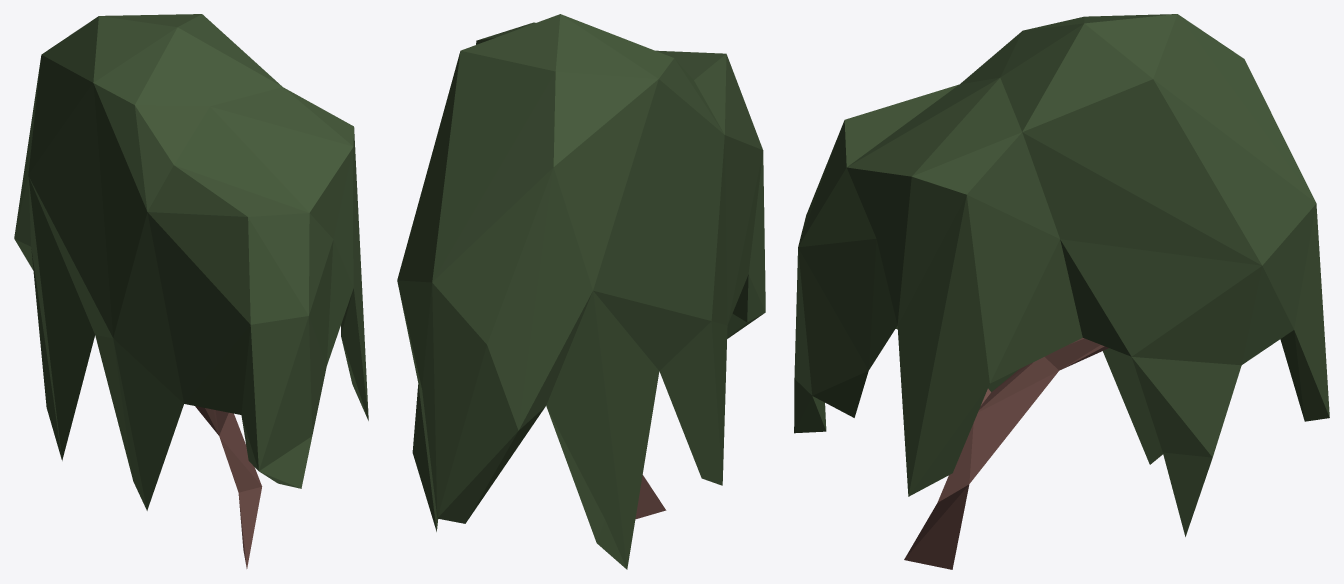
File: Willow_1.lod3.glb
3 renders of one model, left to right at view 1: azimuth 30°, elevation 25°; view 2: azimuth 150°, elevation 25°; view 3: azimuth 270°, elevation 25°, orthographic. The views are drawn at different scales.
Visible parts, largest first — view 1: Willow_1; view 2: Willow_1; view 3: Willow_1.
Boxes of the visible parts, x1,y1,x2,y2 form: Willow_1: [14, 14, 368, 568]; Willow_1: [397, 14, 765, 569]; Willow_1: [794, 14, 1329, 569].
Bounding box in the file's own units: 1.37 × 2.86 × 2.56.
